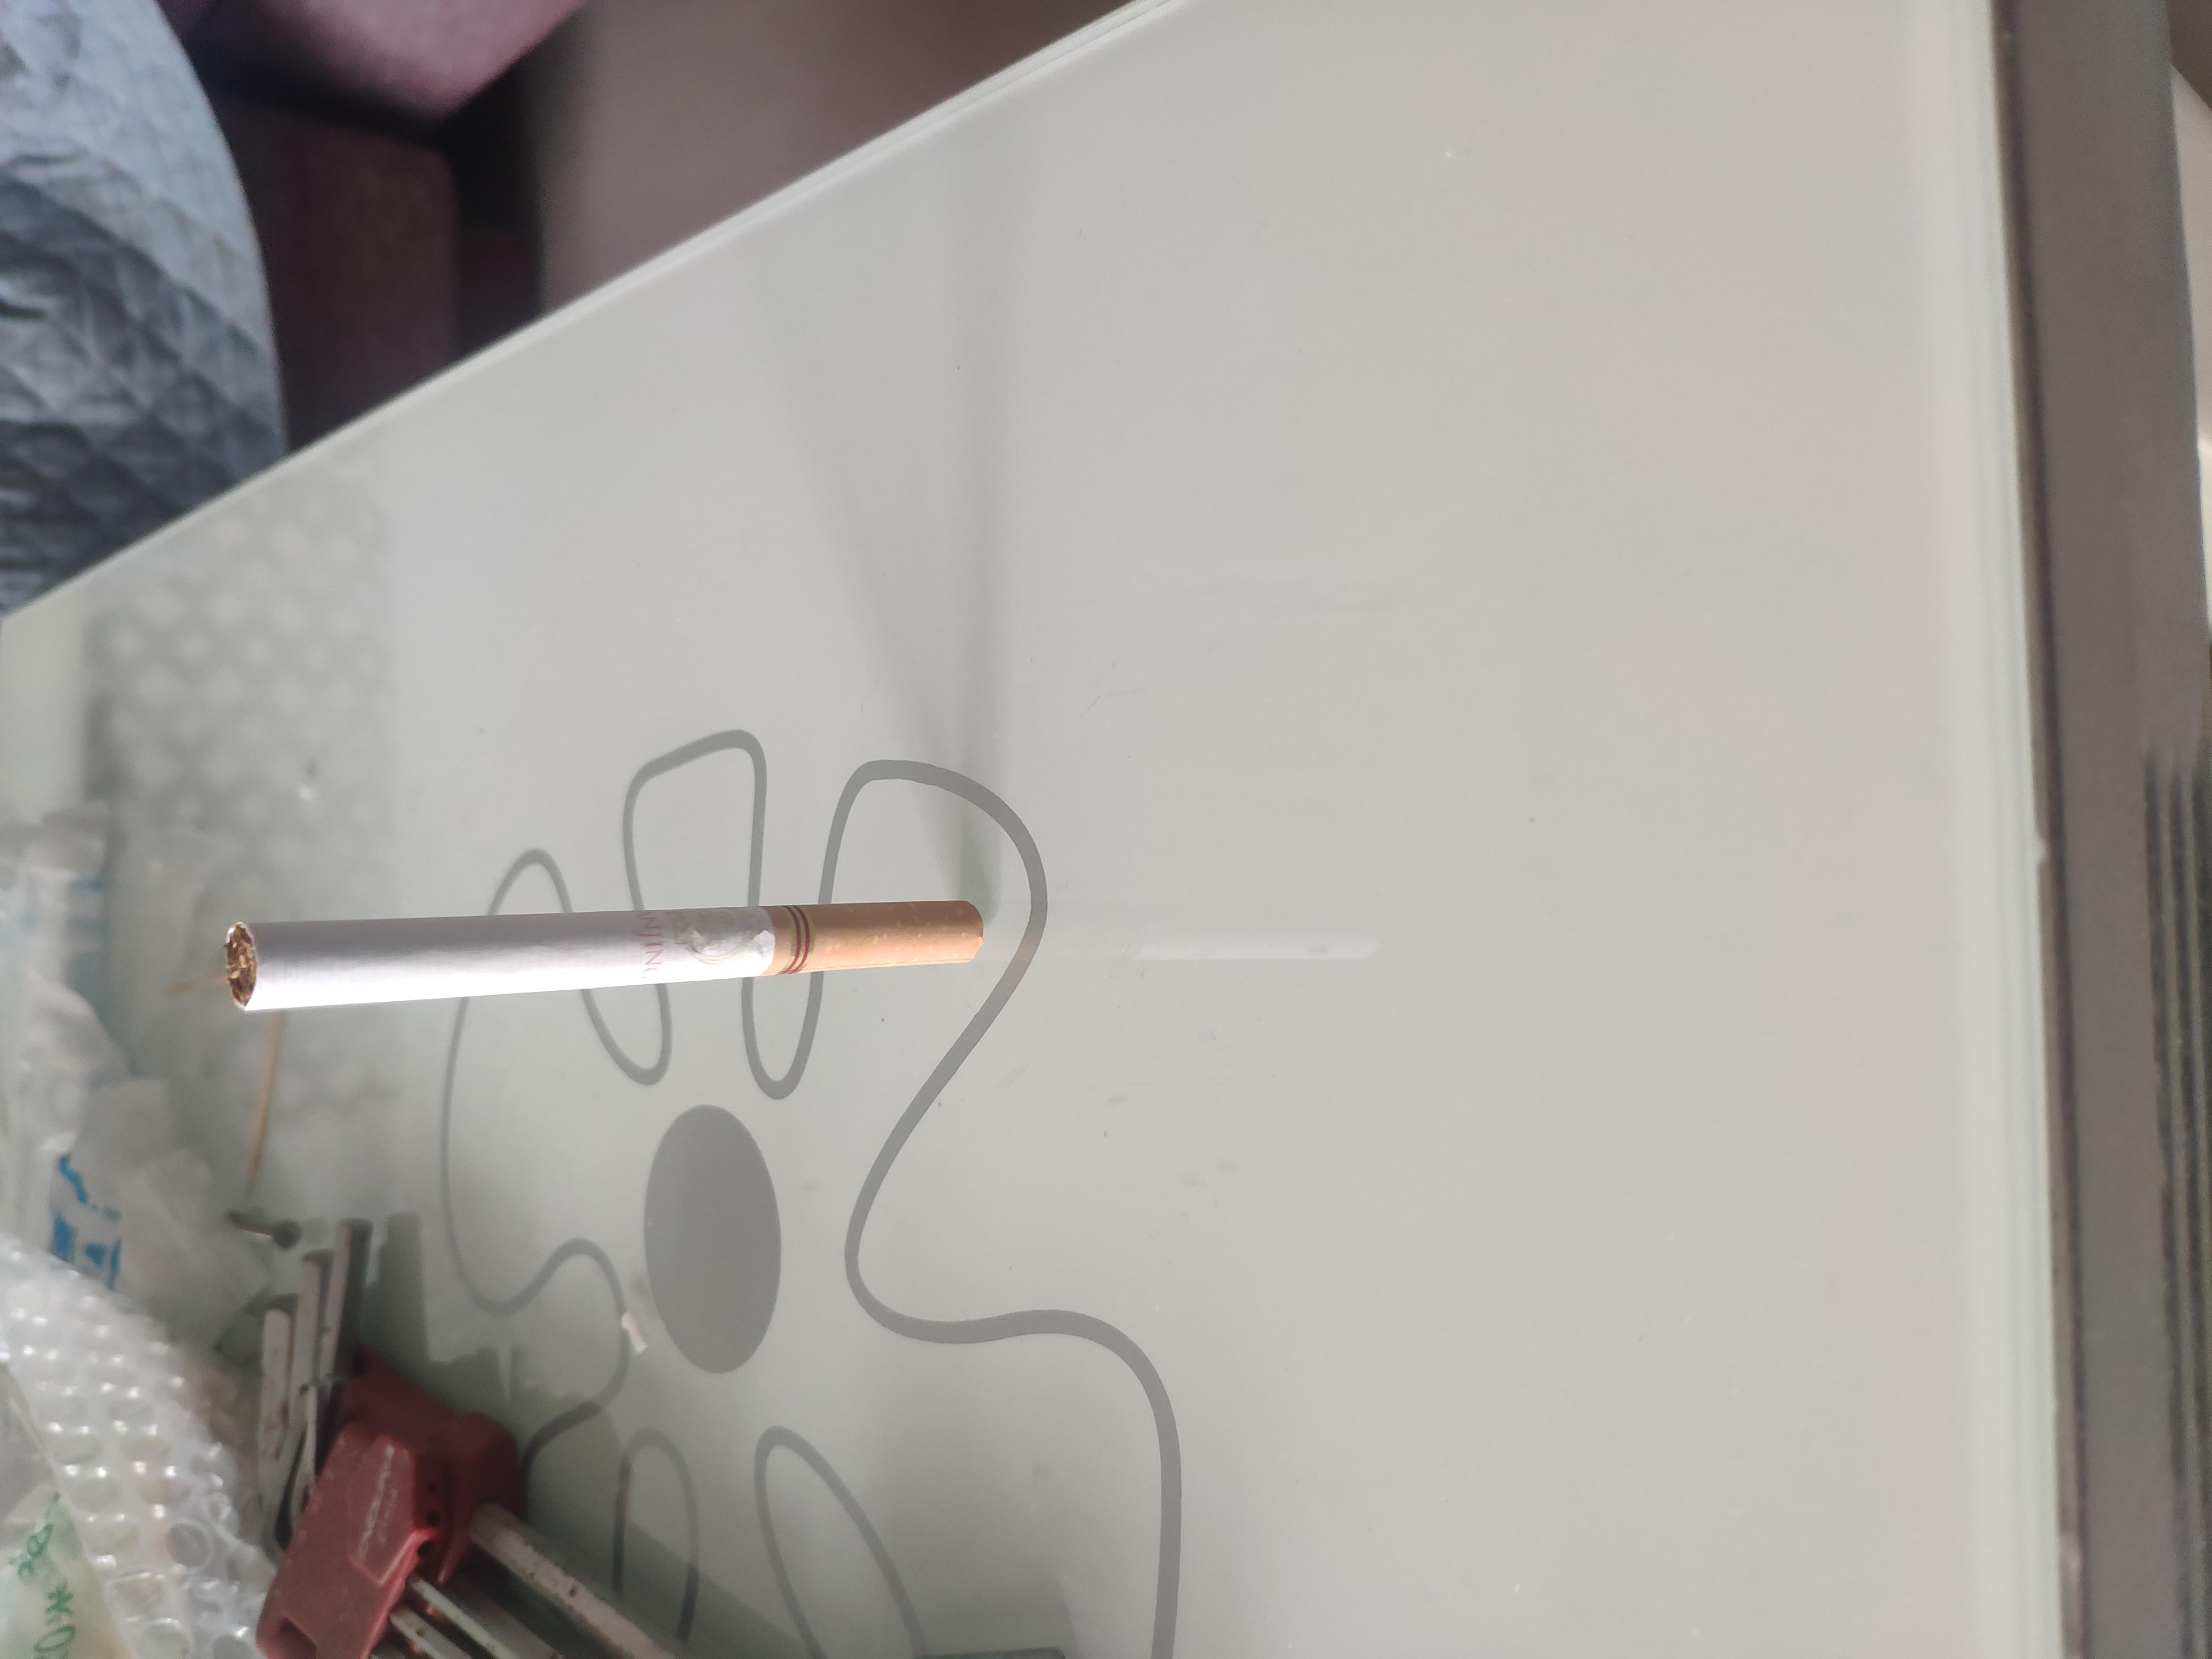smoke: (867, 171, 1022, 738)
